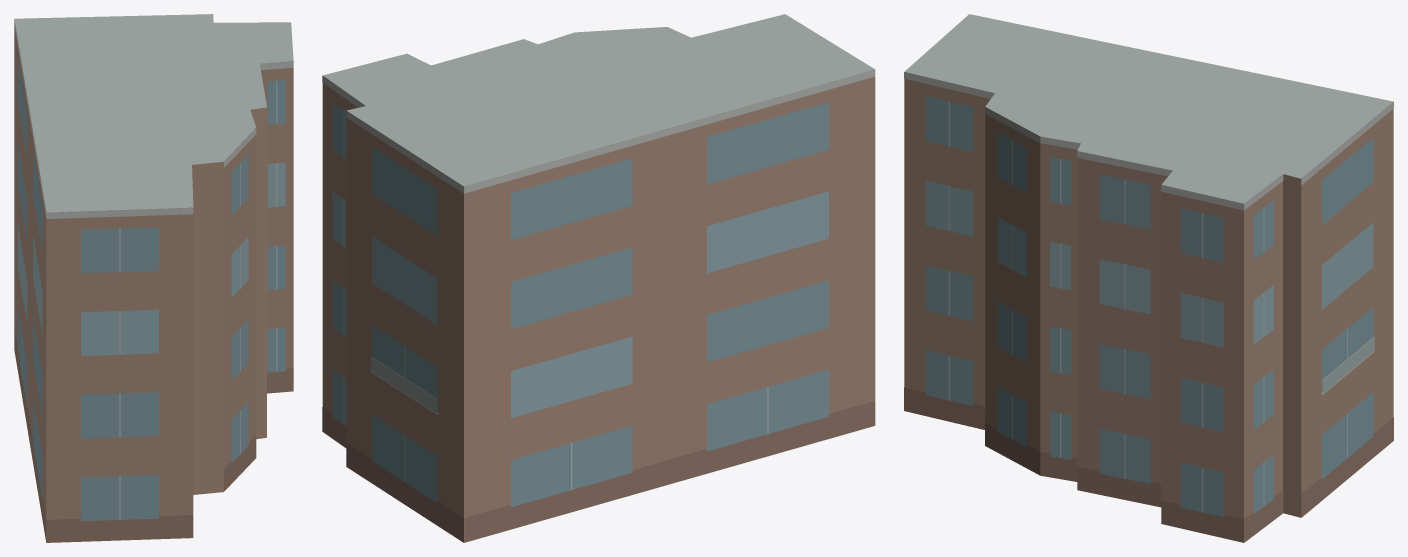
File: survey-upis-32662228.glb
3 views of the same model, side by side, from view 1: azimuth 30°, elevation 25°; view 2: azimuth 150°, elevation 25°; view 3: azimuth 270°, elevation 25° (orthographic). The views are drawn at different scales.
Parts seen in each view (by area): view 1: survey-upis-32662228.tmp; view 2: survey-upis-32662228.tmp; view 3: survey-upis-32662228.tmp.
Part boxes in pixels (bbox=[...]): survey-upis-32662228.tmp: bbox=[14, 14, 293, 542]; survey-upis-32662228.tmp: bbox=[322, 14, 875, 542]; survey-upis-32662228.tmp: bbox=[904, 14, 1393, 542].
Bounding box in the file's own units: 14.64 × 12.2 × 15.97.
